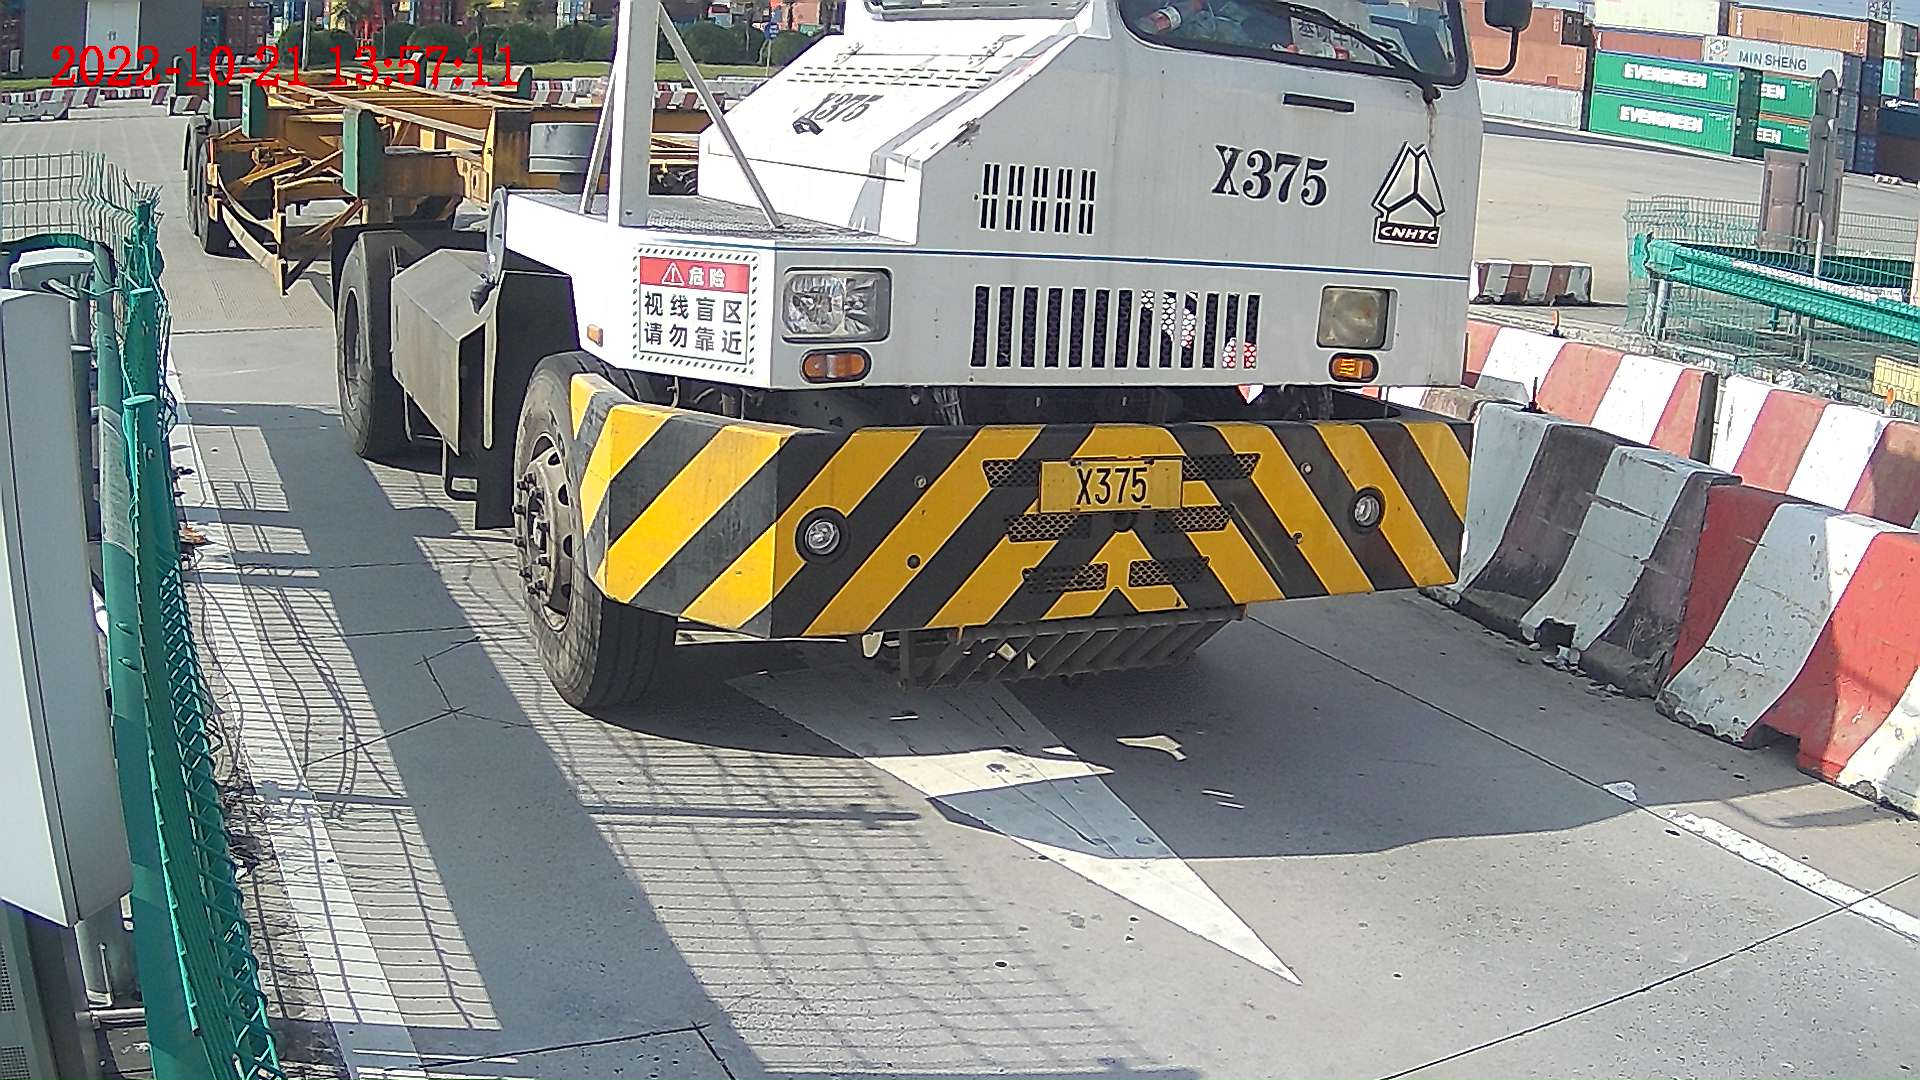head: (498, 1, 1493, 702)
plate: (1049, 463, 1175, 507)
